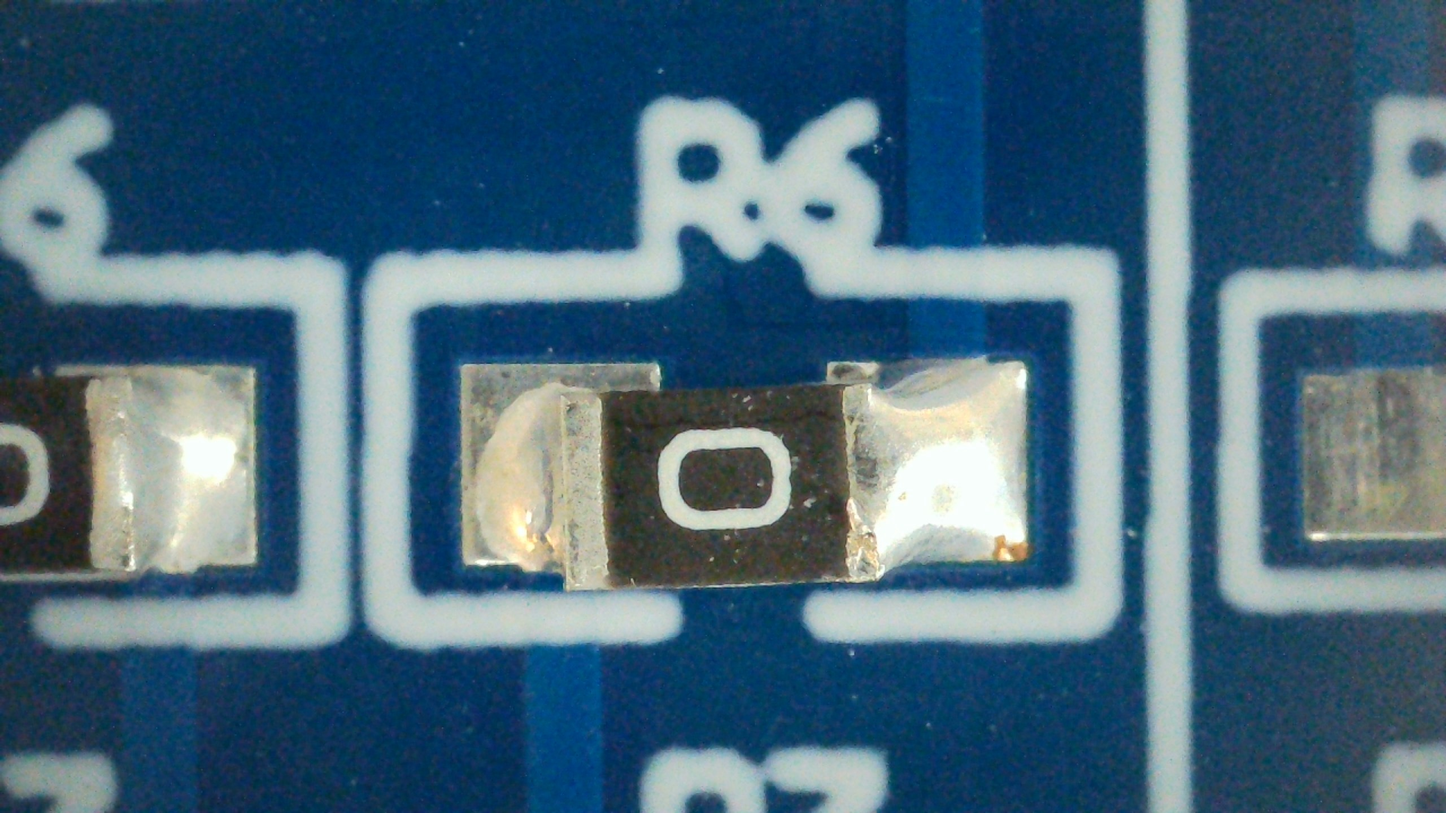NG: (461, 359, 1028, 590)
